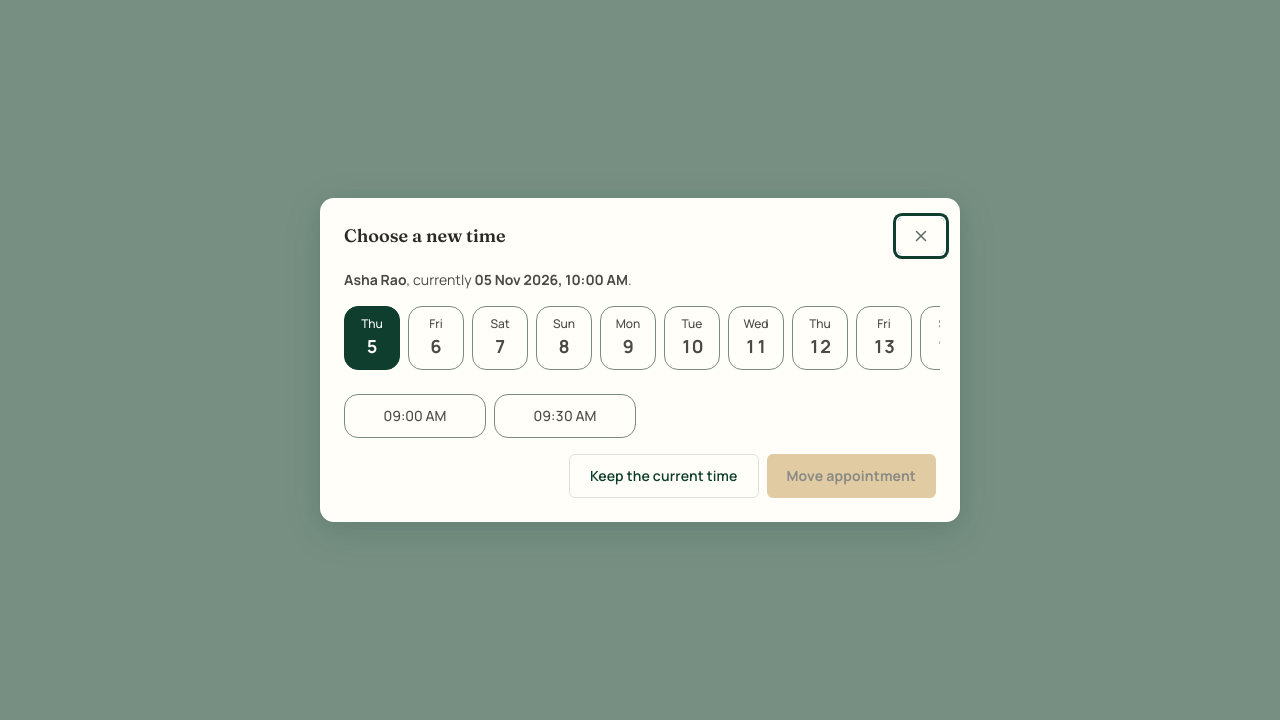
RescheduleDialog › reports a network failure in plain words
Click the button "09:30 AM" at (565, 416), box [494,394,636,438]
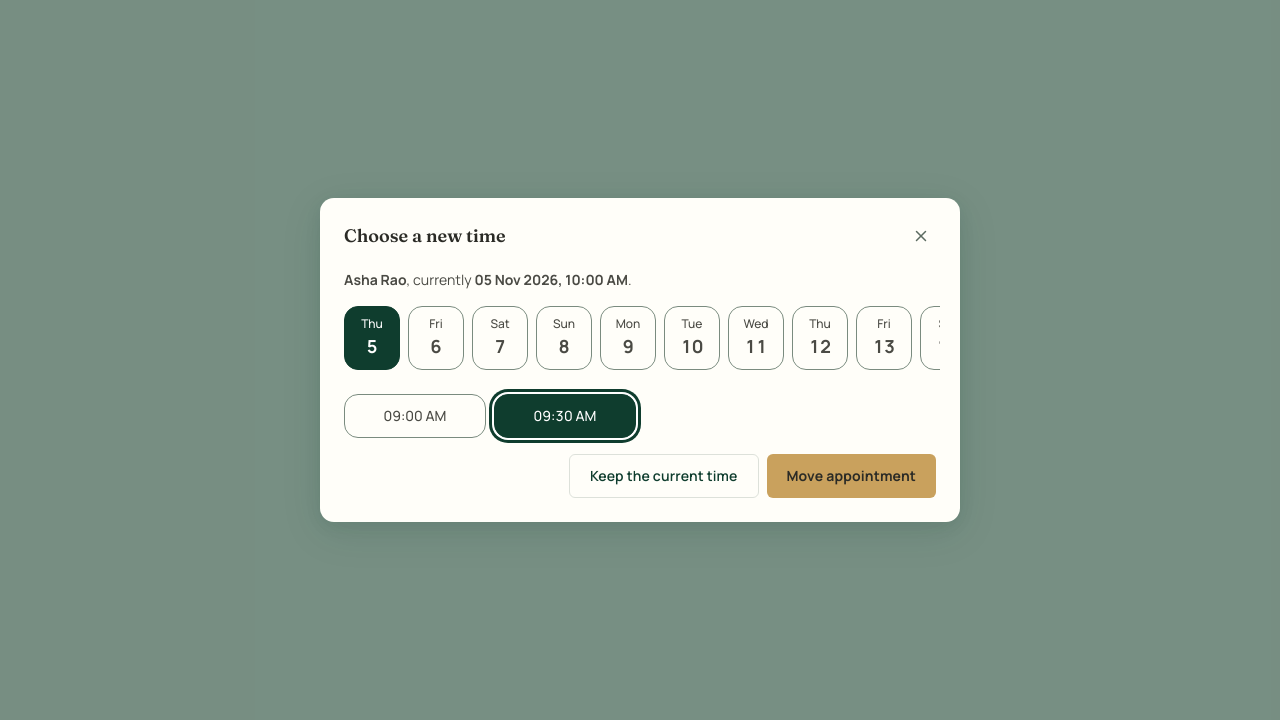
Click the button "Move appointment" at (851, 476), box [766,454,936,498]
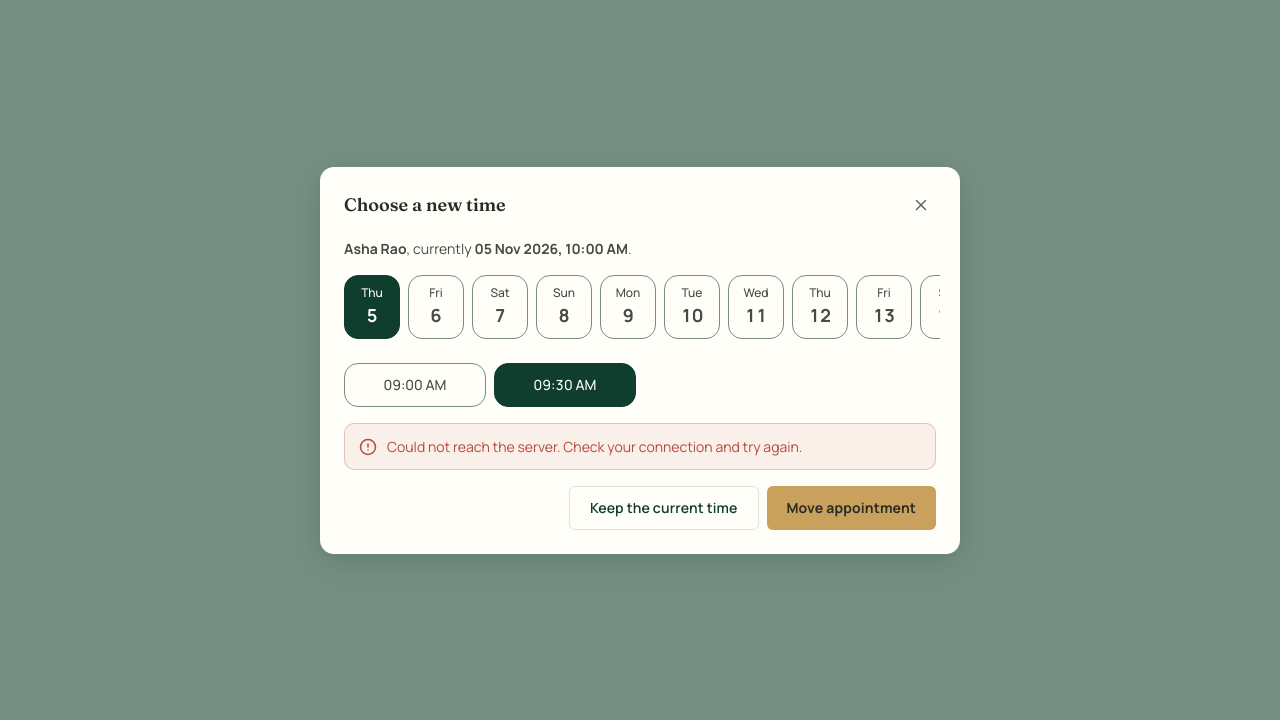
Expected: the message shows "Could not reach the server", [387,436,802,456]
